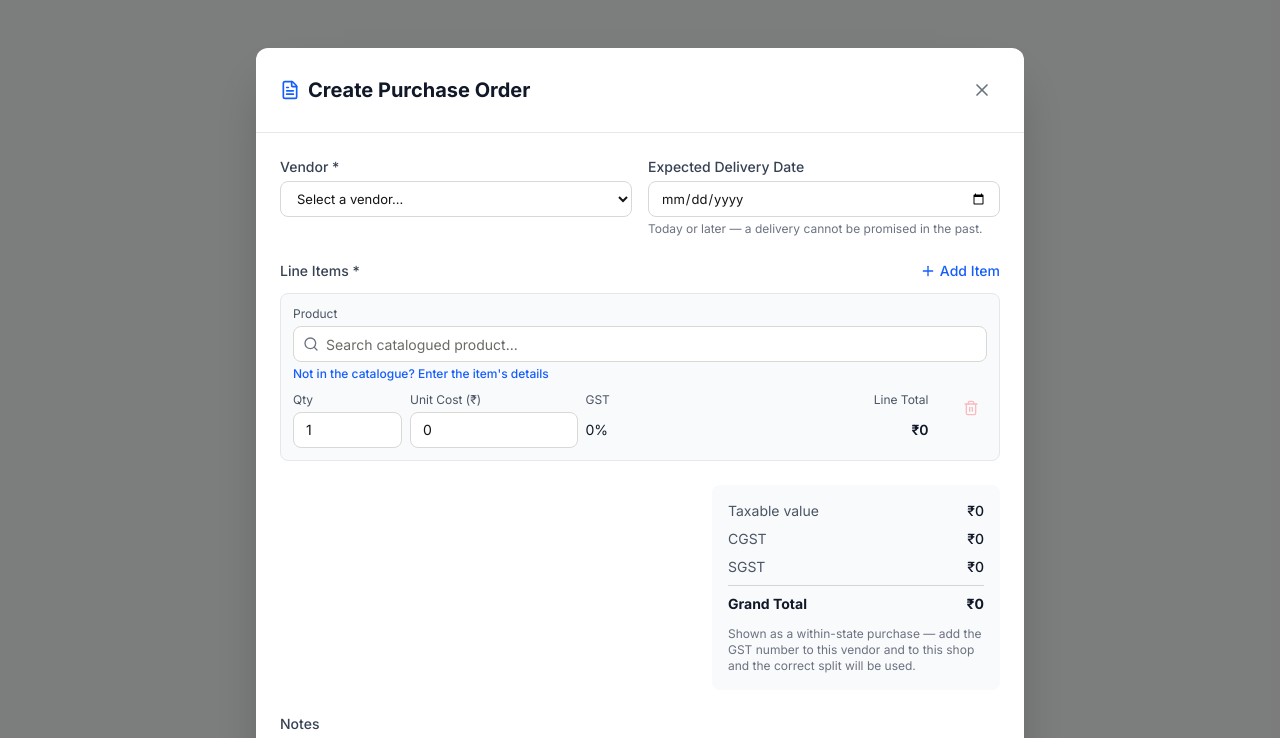
Test: Create Purchase Order - what we pay is for accounts only › ACCOUNTANT: the cost box, from the last price paid
Select "Mumbai Lens House (V-MUM)" in the dropdown named "Vendor" at {"x": 456, "y": 199}, box [280,181,632,217]
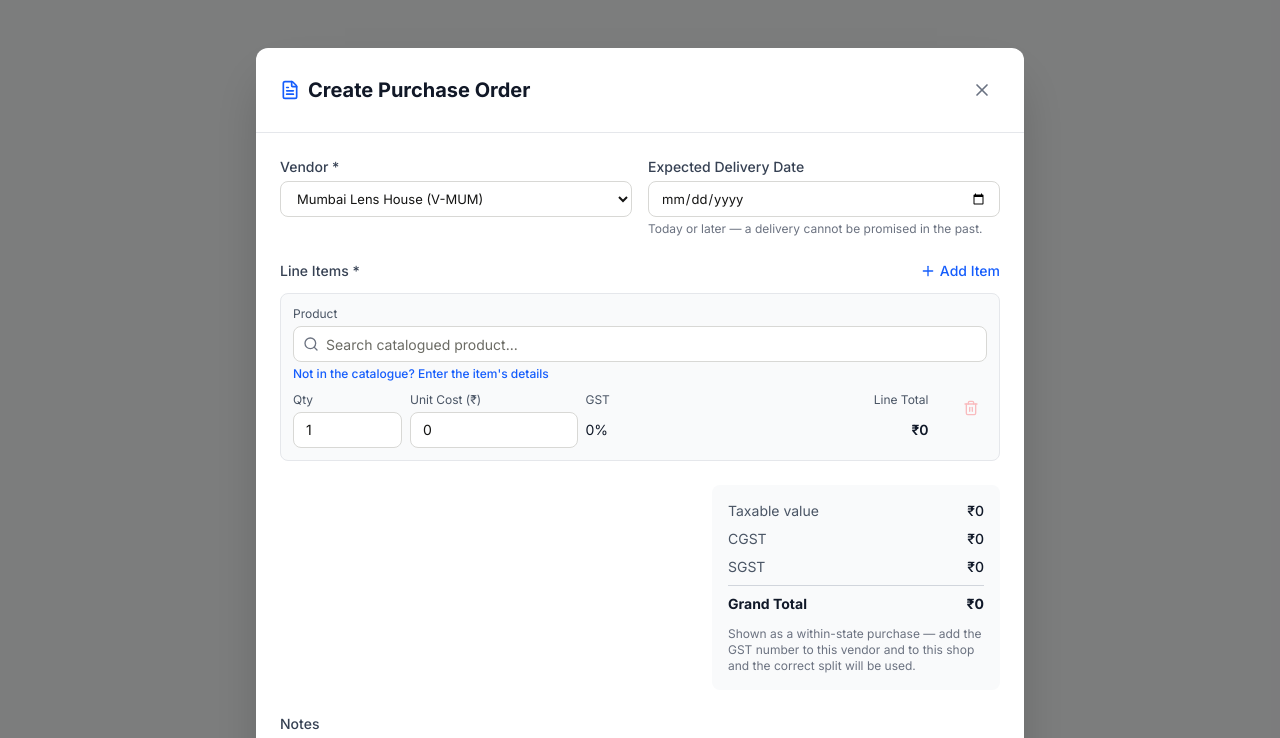
Type "8895" into the field with placeholder "Search catalogued product..." at {"x": 640, "y": 344}, box [293,326,987,362]
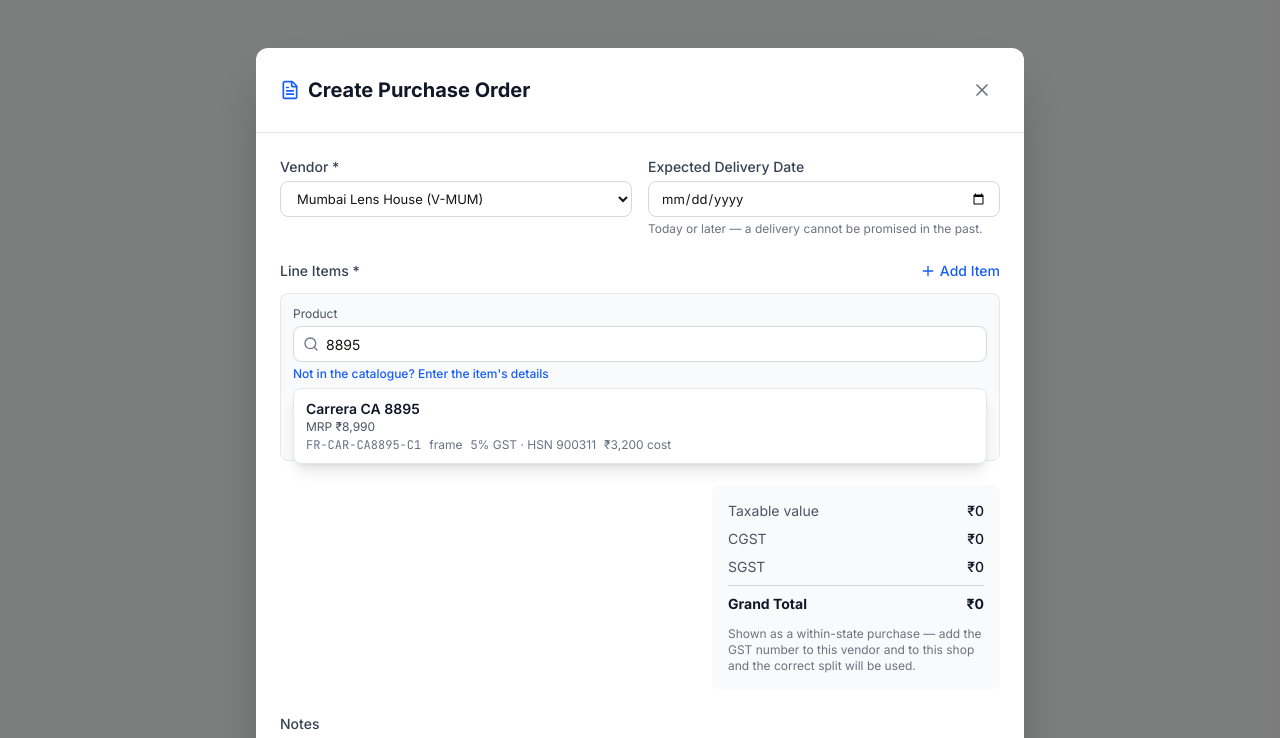
Click the button "Carrera CA 8895" at {"x": 363, "y": 408}, box [294,389,986,463]
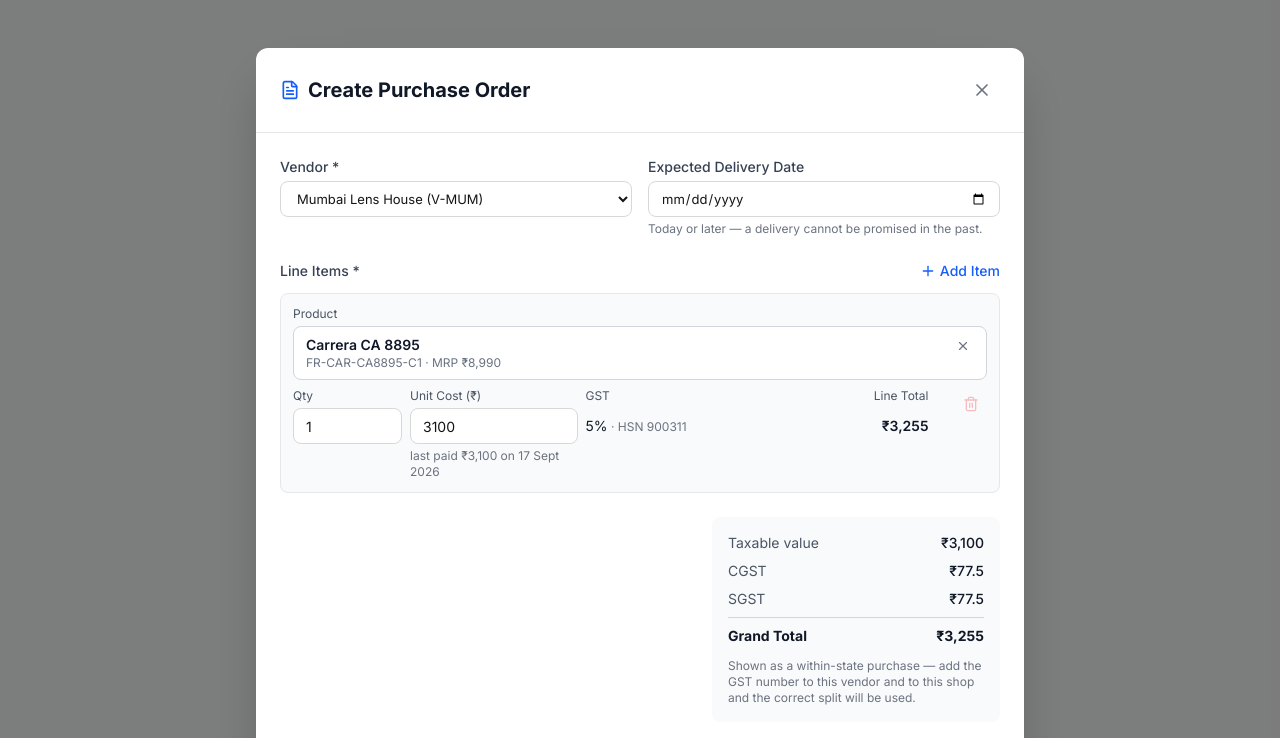
Now the number field named "Unit cost for line 1" holds "3100", box [410,408,578,444]
